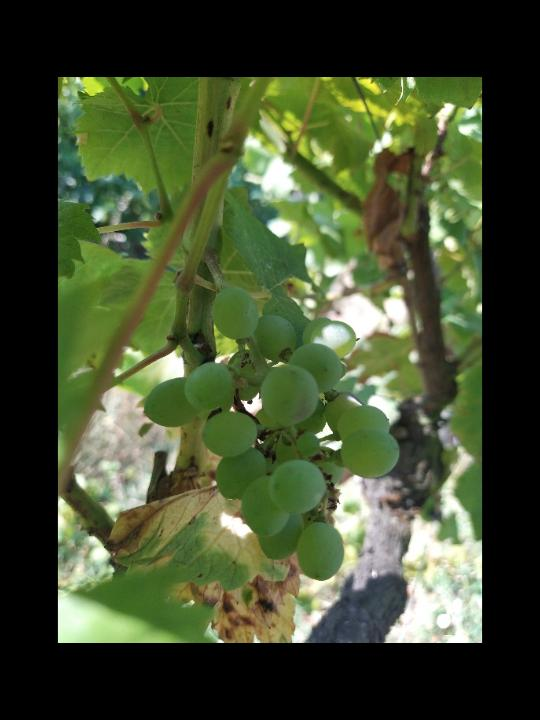grape: (141, 285, 404, 582)
